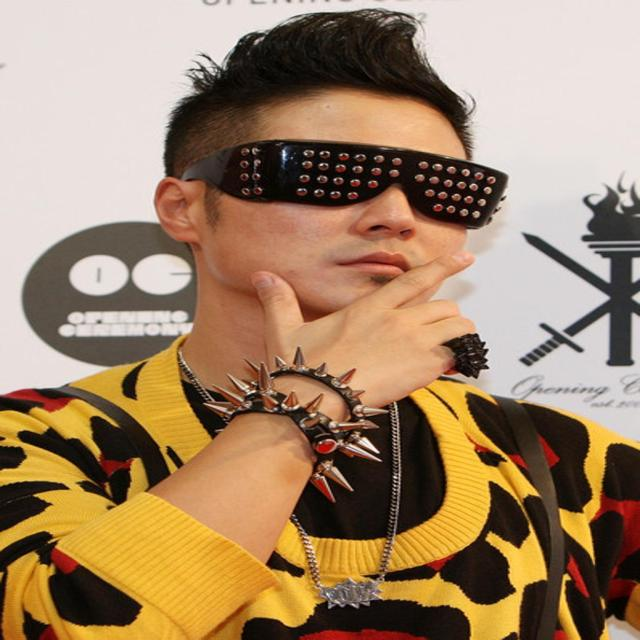Face: (174, 88, 502, 318)
